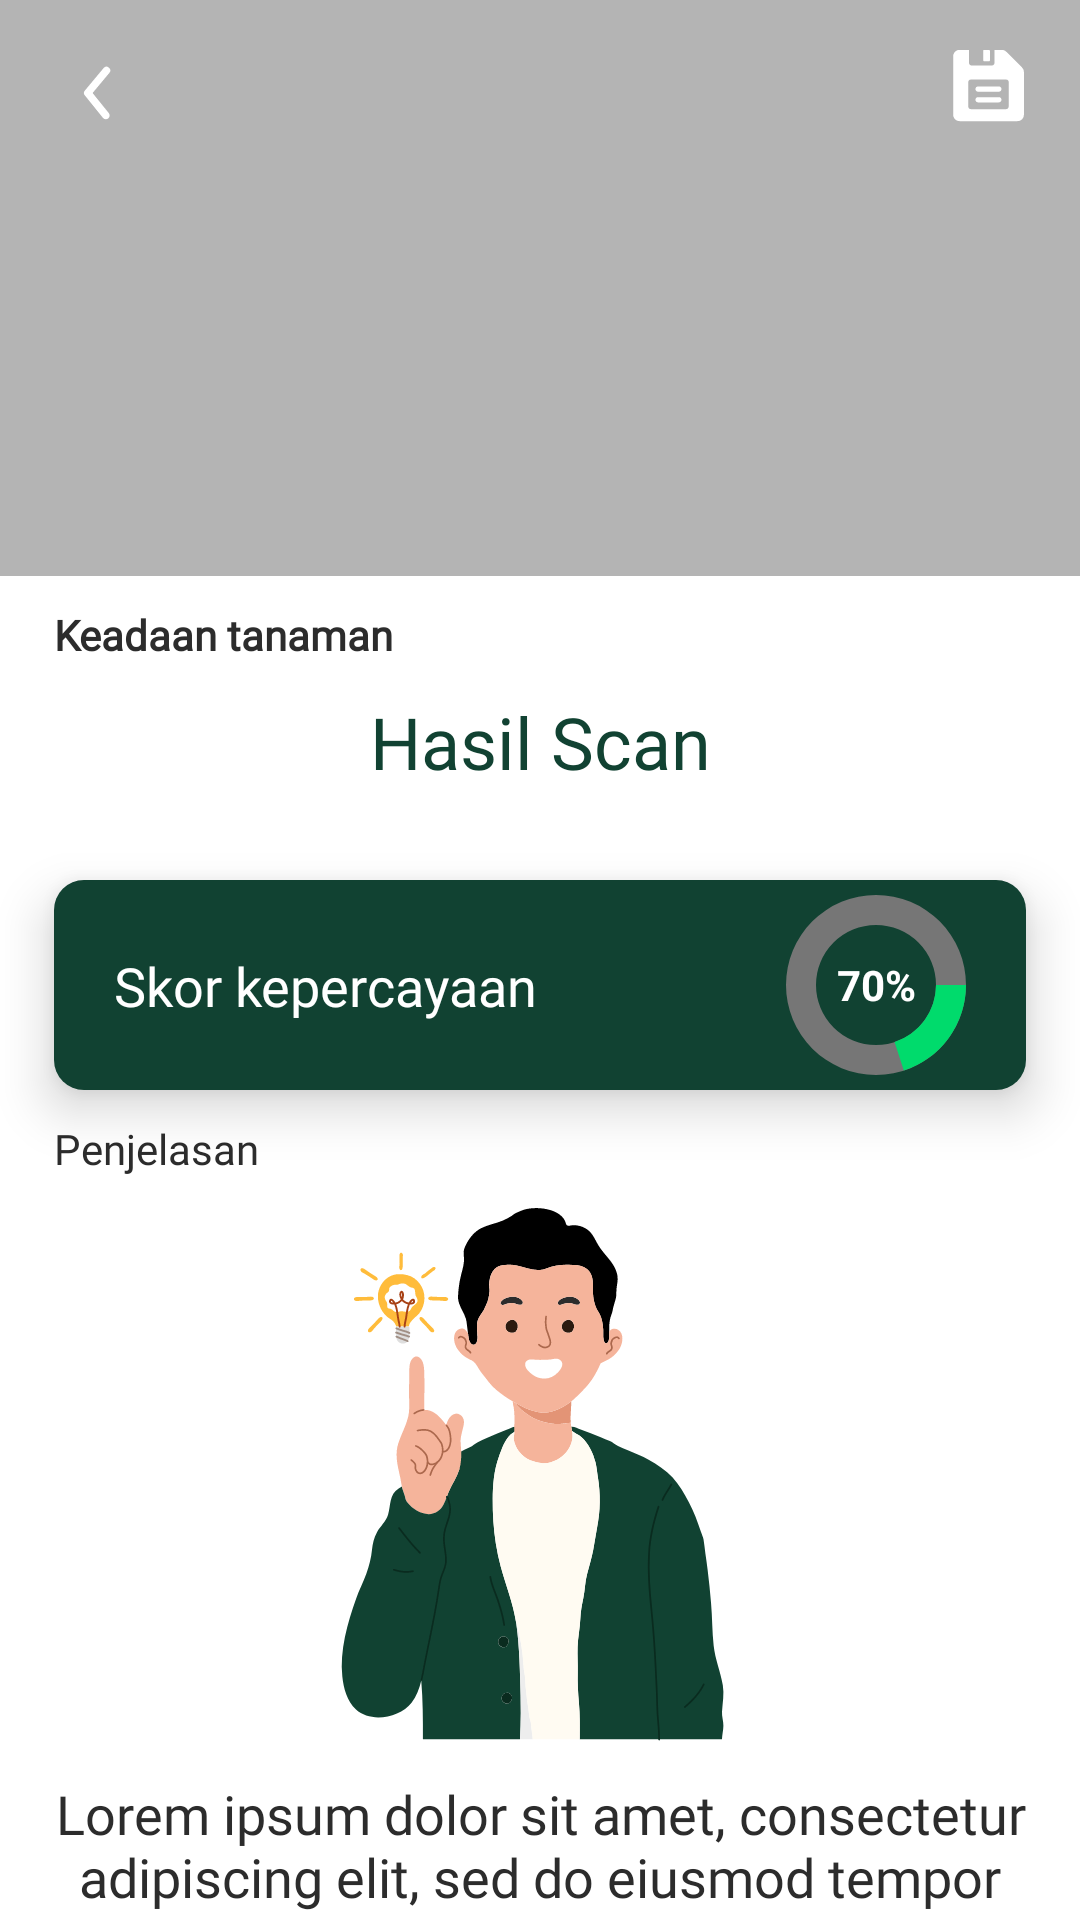

Where icons sit on this 1080w x 1920h app screen, as (x1, y1, x2, y2):
save: (953, 50, 1024, 121)
